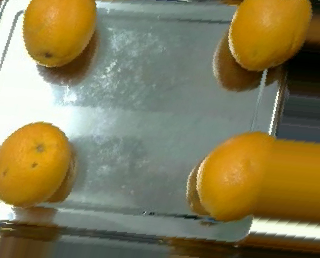Orange: (1, 120, 73, 205), (228, 1, 314, 71), (23, 1, 97, 67)
